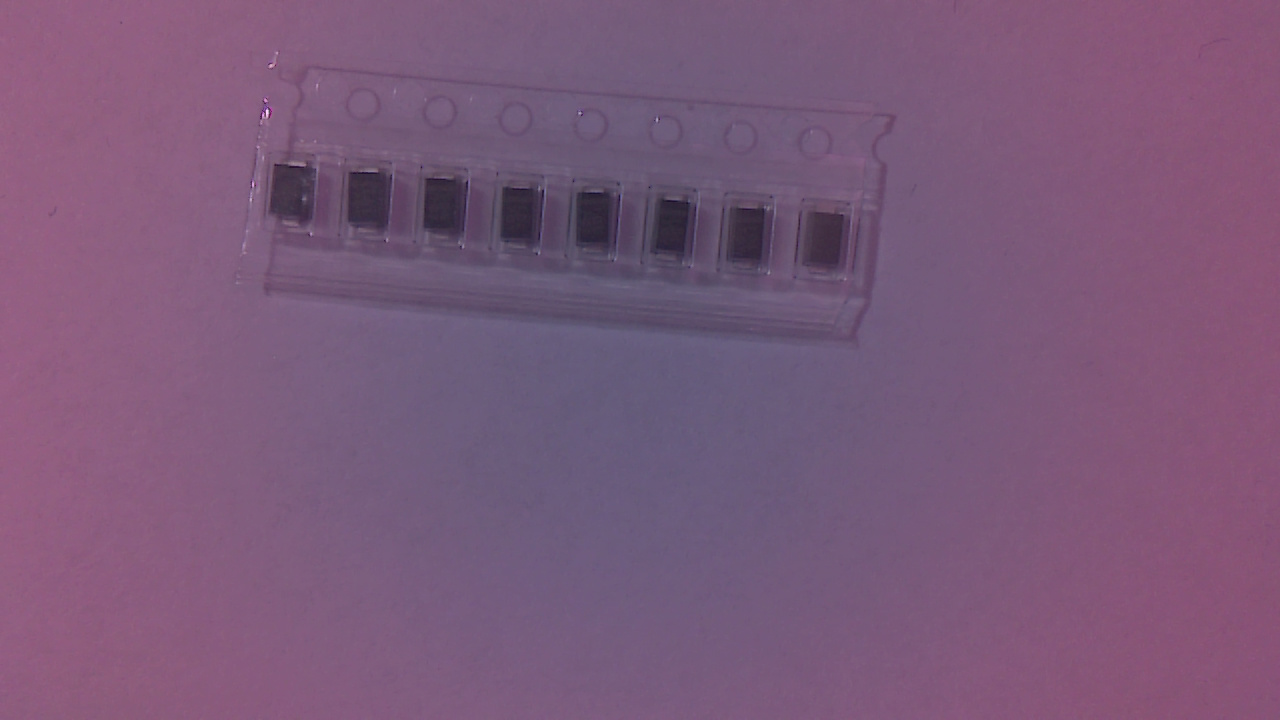Diode: (654, 194, 699, 273), (806, 209, 852, 285), (350, 172, 396, 246), (424, 173, 467, 251), (503, 183, 547, 259), (579, 190, 620, 265), (275, 165, 319, 234), (730, 205, 770, 280)
